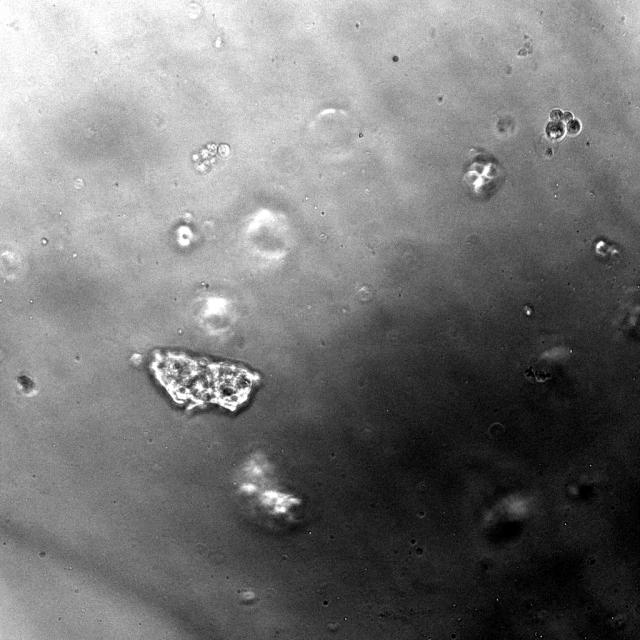organoid: (147, 348, 261, 413), (462, 149, 505, 199), (543, 108, 582, 143), (190, 141, 229, 174), (16, 371, 37, 396), (488, 422, 505, 439)
